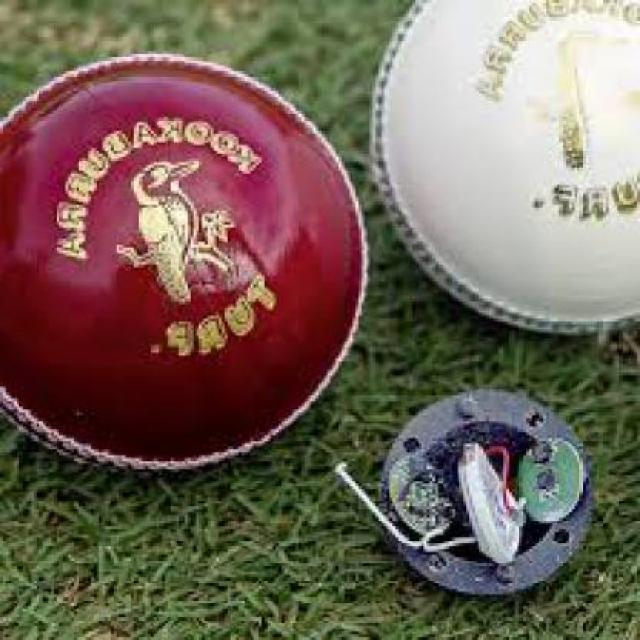ball: (0, 19, 404, 477)
